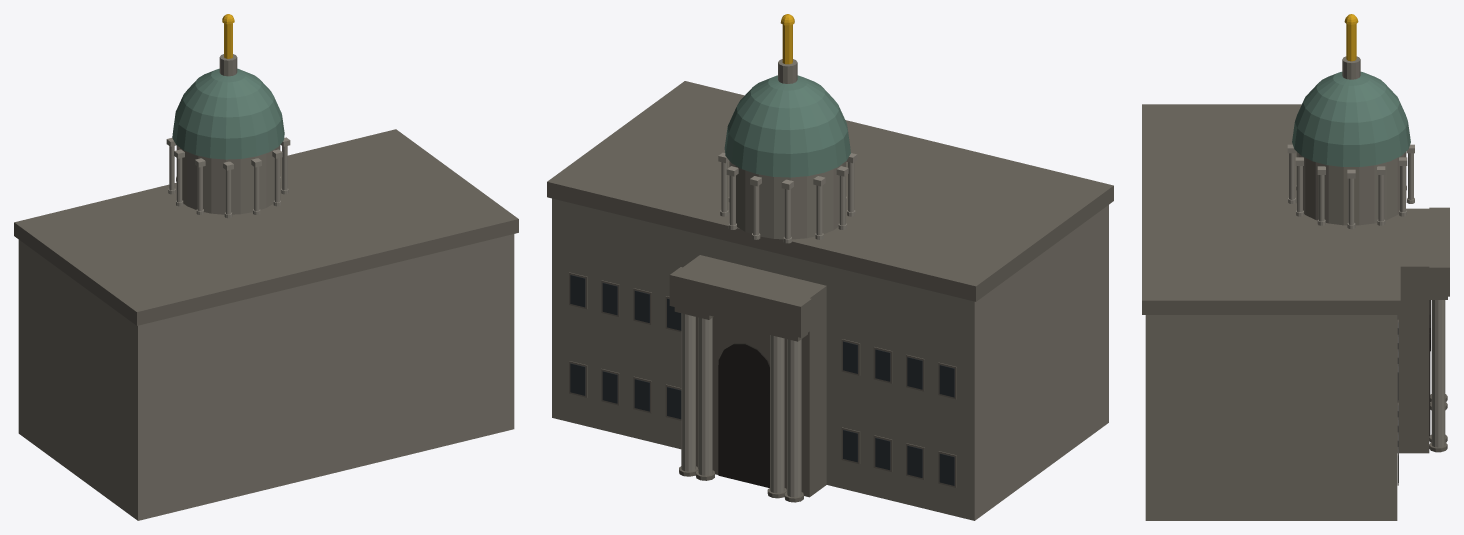
File: edinburgh.glb
The picture shows the model from 3 angles, left to right: view 1: azimuth 30°, elevation 25°; view 2: azimuth 150°, elevation 25°; view 3: azimuth 270°, elevation 25°; orthographic projection. The views are drawn at different scales.
Visible parts, largest first — view 1: edinburgh; view 2: edinburgh; view 3: edinburgh.
Part boxes in pixels (x1,y1,x2,y2): edinburgh: [14, 14, 518, 520]; edinburgh: [547, 14, 1113, 520]; edinburgh: [1142, 14, 1449, 520].
Size of the model in its own units: 20.3 by 19.76 by 13.45.
